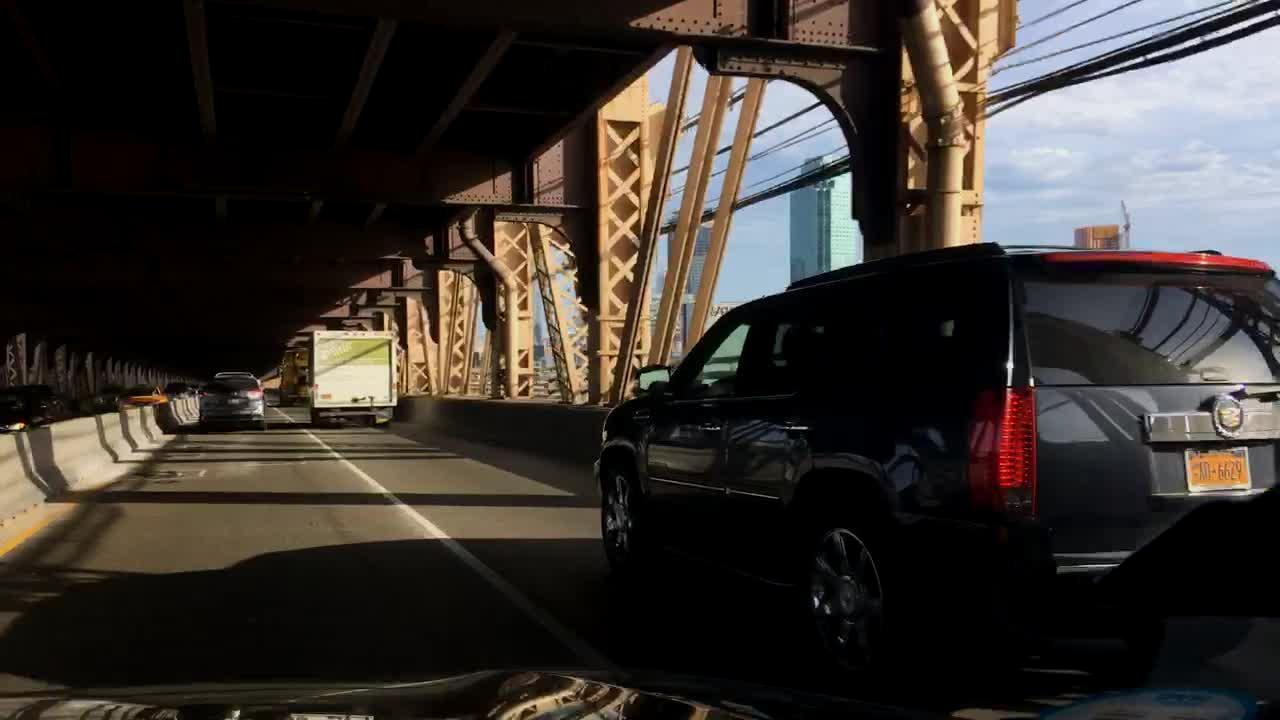cadillac: (1207, 389, 1246, 438)
